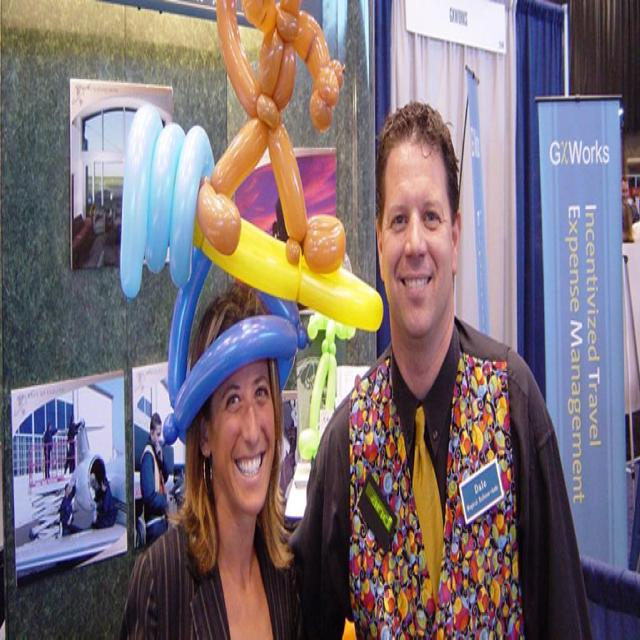Face: (380, 117, 464, 341), (217, 333, 287, 542)
